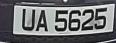2: (81, 8, 95, 32)
5: (53, 9, 68, 34), (94, 8, 107, 32)
6: (68, 9, 82, 33)
A: (36, 9, 49, 34)
U: (20, 8, 36, 33)
